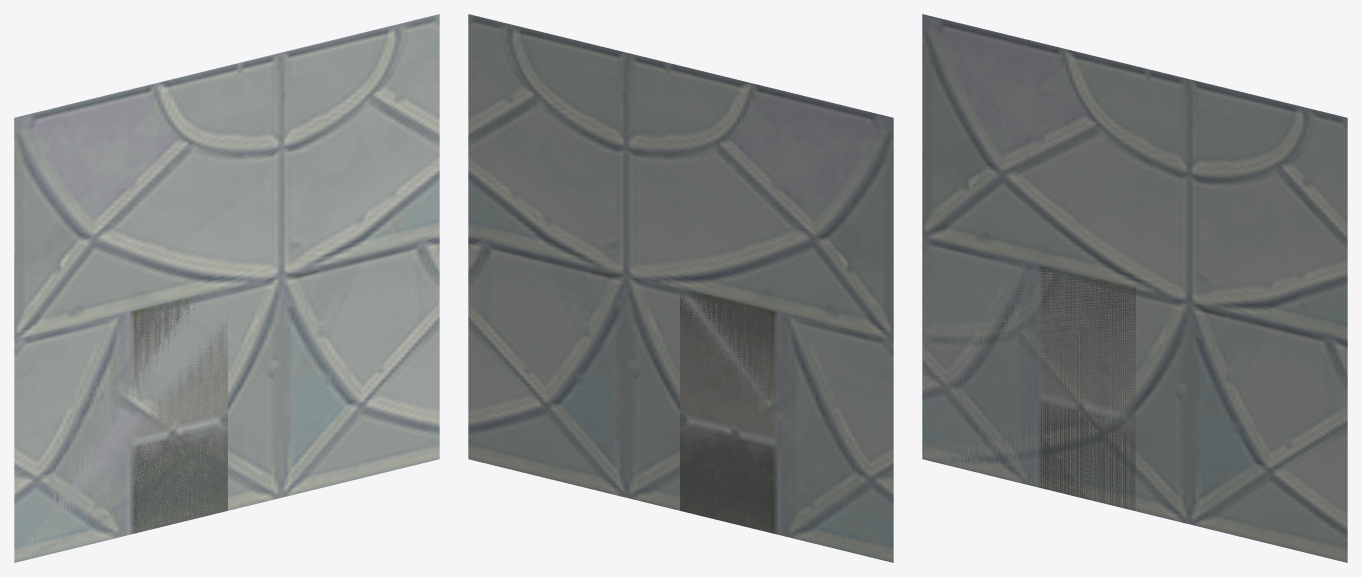
File: dais.glb
The picture shows the model from 3 angles, left to right: view 1: azimuth 30°, elevation 25°; view 2: azimuth 150°, elevation 25°; view 3: azimuth 330°, elevation 25°; orthographic projection.
Visible parts, largest first — view 1: outershell.dais-MeshSets[dais01_x2].Mesh[0], outershell.dais-MeshSets[dais01_x1].Mesh[0]; view 2: outershell.dais-MeshSets[dais01_x2].Mesh[0], outershell.dais-MeshSets[dais01_x1].Mesh[0]; view 3: outershell.dais-MeshSets[dais01_x2].Mesh[0], outershell.dais-MeshSets[dais01_x1].Mesh[0].
Part boxes in pixels (x1,y1,x2,y2): outershell.dais-MeshSets[dais01_x2].Mesh[0]: (14,14,439,562); outershell.dais-MeshSets[dais01_x1].Mesh[0]: (14,294,227,562); outershell.dais-MeshSets[dais01_x2].Mesh[0]: (468,14,893,561); outershell.dais-MeshSets[dais01_x1].Mesh[0]: (680,289,893,562); outershell.dais-MeshSets[dais01_x2].Mesh[0]: (922,14,1347,562); outershell.dais-MeshSets[dais01_x1].Mesh[0]: (922,236,1135,510).
Bounding box in the file's own units: 2.01 × 2.01 × 0.
1 material, 1 textured.
